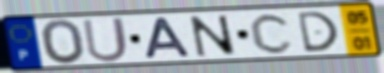A: (143, 16, 194, 61)
C: (248, 11, 296, 55)
D: (295, 10, 341, 54)
N: (187, 14, 239, 59)
O: (38, 18, 88, 67)
U: (79, 15, 131, 64)
